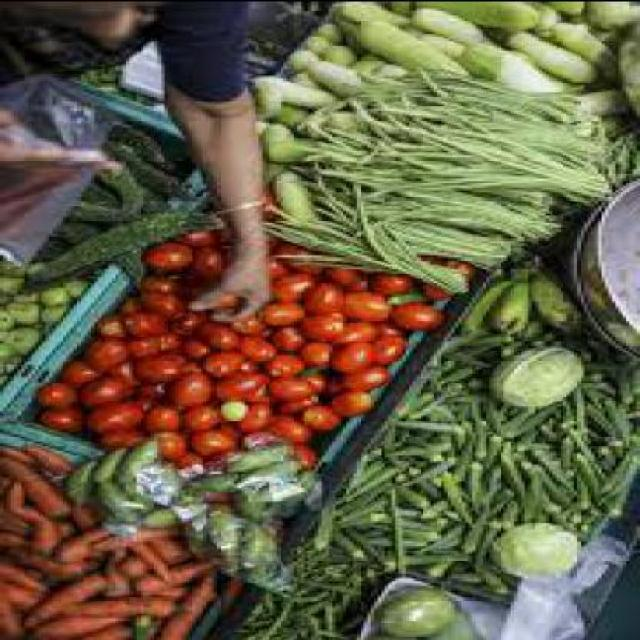BIODEGRADABLE: (308, 112, 612, 177), (35, 212, 227, 288), (276, 214, 469, 288), (36, 98, 146, 214), (368, 104, 604, 158), (353, 186, 570, 240), (384, 69, 590, 122), (317, 505, 468, 570), (49, 218, 185, 282), (368, 168, 612, 202), (318, 179, 416, 256), (398, 218, 528, 271), (356, 23, 476, 77), (437, 421, 503, 519), (437, 410, 552, 465), (492, 347, 588, 410), (461, 46, 581, 96), (105, 142, 210, 198), (434, 493, 497, 584), (59, 221, 147, 284), (497, 523, 588, 580), (503, 410, 577, 479), (507, 32, 602, 85), (468, 260, 534, 334), (350, 449, 416, 523), (398, 2, 542, 33), (514, 463, 584, 526), (374, 588, 461, 638), (63, 223, 140, 277), (3, 463, 77, 519), (11, 484, 66, 558), (535, 258, 588, 332), (416, 2, 542, 33), (395, 424, 451, 488), (164, 572, 218, 638), (560, 472, 608, 543), (297, 550, 371, 596), (140, 558, 228, 596), (427, 38, 507, 79), (297, 52, 368, 98), (556, 26, 619, 72), (416, 9, 493, 46), (60, 598, 192, 619), (118, 126, 182, 169), (588, 397, 638, 451), (10, 552, 98, 582), (276, 174, 326, 226), (262, 77, 342, 109), (336, 3, 410, 37), (490, 284, 536, 338), (28, 614, 130, 638), (406, 382, 462, 423), (266, 593, 340, 624), (389, 492, 416, 574), (92, 400, 150, 438), (427, 258, 482, 298), (98, 528, 188, 552), (469, 188, 556, 212), (591, 359, 638, 403), (245, 612, 320, 638), (213, 509, 244, 571), (84, 376, 139, 410), (60, 533, 118, 565), (606, 132, 640, 186), (4, 558, 59, 591), (242, 463, 304, 491), (132, 544, 176, 582), (80, 180, 129, 214), (84, 340, 136, 372), (608, 449, 638, 503), (140, 354, 192, 384), (266, 123, 305, 163), (150, 243, 199, 274), (283, 242, 329, 275), (122, 444, 161, 482), (429, 610, 480, 638), (174, 372, 220, 403), (395, 305, 451, 330), (368, 271, 426, 295), (231, 450, 286, 475), (420, 382, 458, 418), (622, 28, 638, 110), (262, 300, 308, 328), (591, 2, 638, 29), (38, 382, 80, 412), (196, 245, 235, 277), (249, 526, 276, 572), (332, 345, 378, 372), (200, 322, 246, 349), (304, 284, 350, 311), (31, 450, 80, 475), (35, 410, 88, 433), (192, 431, 245, 454), (154, 431, 192, 463), (374, 334, 412, 366), (227, 370, 270, 398), (328, 322, 378, 346), (301, 579, 364, 598), (242, 402, 280, 433), (70, 462, 98, 504), (106, 487, 140, 521), (458, 338, 522, 356), (332, 393, 382, 416), (343, 296, 395, 318), (3, 442, 46, 468), (272, 417, 318, 441), (308, 408, 354, 432), (143, 274, 189, 298), (130, 314, 176, 338), (304, 315, 350, 339), (266, 355, 312, 379), (342, 368, 392, 390), (328, 268, 378, 290), (475, 570, 514, 598), (3, 604, 35, 638), (74, 623, 141, 639), (147, 405, 185, 433), (101, 431, 147, 454), (402, 419, 468, 435), (101, 450, 132, 484), (318, 606, 349, 640), (66, 362, 109, 386), (143, 298, 192, 319), (10, 326, 44, 356), (276, 278, 318, 302), (210, 352, 252, 376), (272, 379, 316, 401), (4, 579, 38, 607), (273, 326, 307, 354), (153, 540, 196, 562), (182, 406, 224, 428), (238, 494, 272, 521), (175, 312, 213, 336), (258, 484, 308, 502), (304, 340, 336, 368), (186, 228, 232, 247), (242, 340, 280, 363), (46, 235, 77, 263), (325, 46, 364, 68), (88, 68, 126, 90), (147, 507, 185, 528), (224, 580, 248, 612), (218, 402, 252, 424), (101, 317, 132, 341), (137, 337, 171, 358), (150, 184, 172, 216), (262, 191, 284, 223), (238, 316, 270, 338), (273, 107, 312, 125), (147, 586, 196, 600), (448, 352, 497, 366), (42, 286, 73, 308), (14, 303, 41, 328), (140, 382, 171, 403), (186, 342, 220, 361), (288, 395, 322, 414), (357, 56, 391, 75), (546, 2, 592, 16), (77, 508, 105, 530), (122, 295, 150, 317), (7, 512, 35, 533), (269, 162, 294, 184), (388, 295, 430, 308), (378, 321, 412, 337), (272, 258, 294, 282), (301, 445, 322, 470), (301, 72, 328, 91), (14, 289, 46, 305), (42, 305, 70, 323), (7, 531, 35, 549), (4, 277, 31, 295), (179, 452, 206, 470), (59, 519, 84, 538), (67, 278, 98, 293), (3, 342, 22, 366), (223, 424, 254, 438), (608, 498, 630, 517), (308, 37, 335, 51), (3, 261, 28, 276), (185, 363, 210, 377), (389, 65, 413, 77), (315, 377, 333, 391), (230, 300, 244, 309), (252, 363, 266, 372)
METAL: (570, 186, 638, 362), (583, 178, 639, 357)
